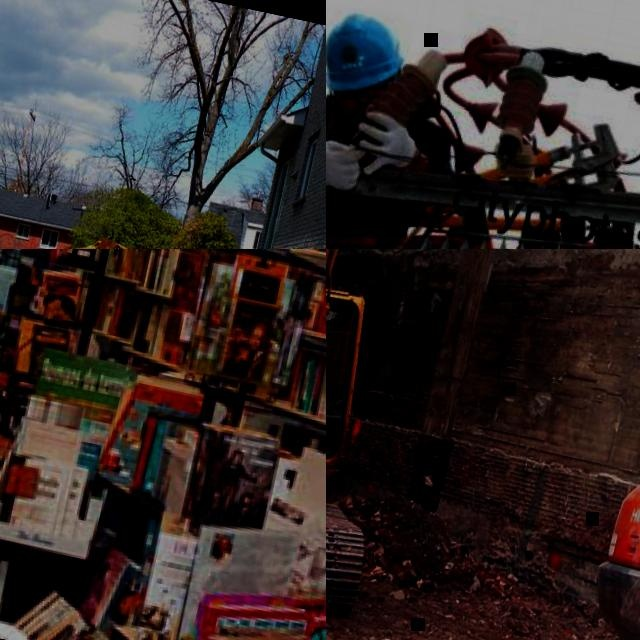Hardhat: (326, 5, 412, 100)
NO-Mask: (345, 101, 367, 128)
NO-Safety Vest: (326, 98, 442, 249)
Person: (326, 0, 479, 249)
machinery: (326, 249, 472, 640), (567, 272, 640, 640), (30, 221, 172, 249)
